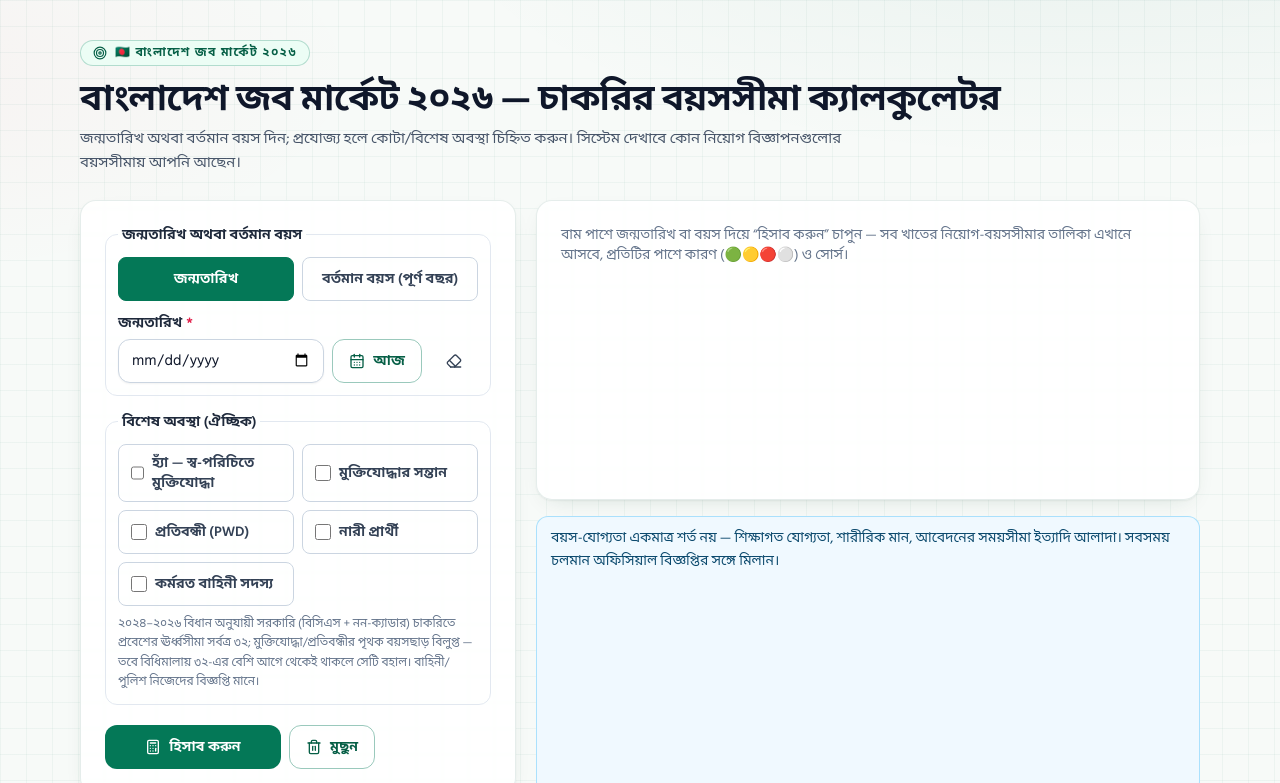
job-age flow (integration) › renders eligibility cards from a DOB
In the date field labelled "জন্মতারিখ*": (221, 361) left=118, top=339, right=324, bottom=383, type "2001-06-15"
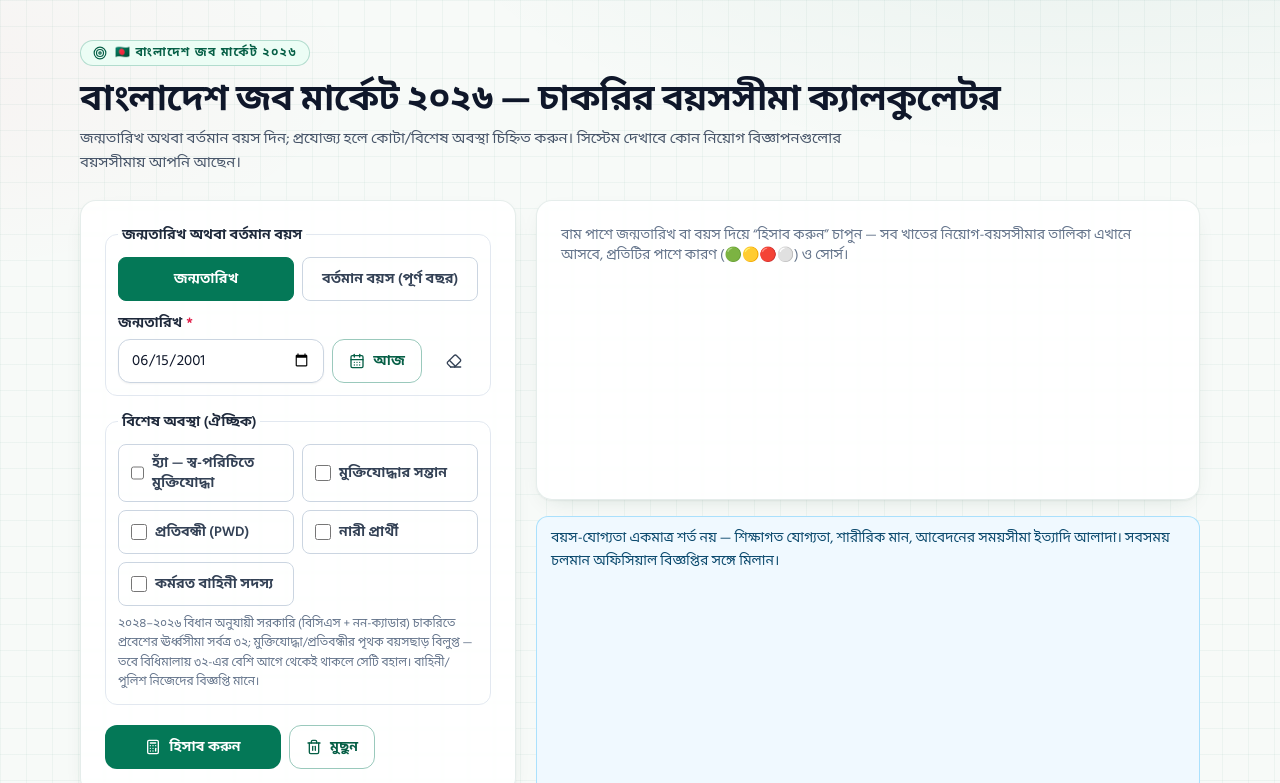
Click the button "হিসাব করুন": (193, 747) left=105, top=725, right=281, bottom=769
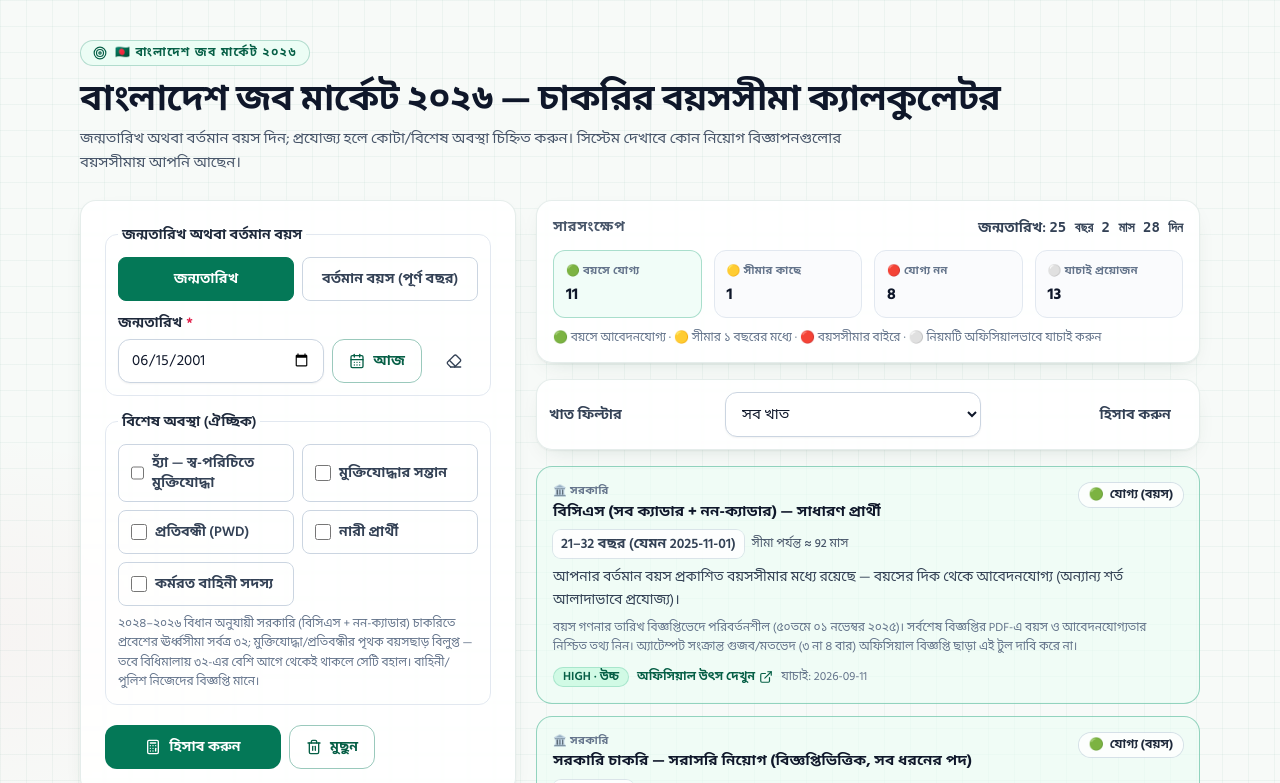
Expected: the text "🟢" is shown, left=566, top=262, right=640, bottom=280
Now the text "21–32 বছর (যেমন 2025-11-01)" is shown, box left=553, top=530, right=744, bottom=558
